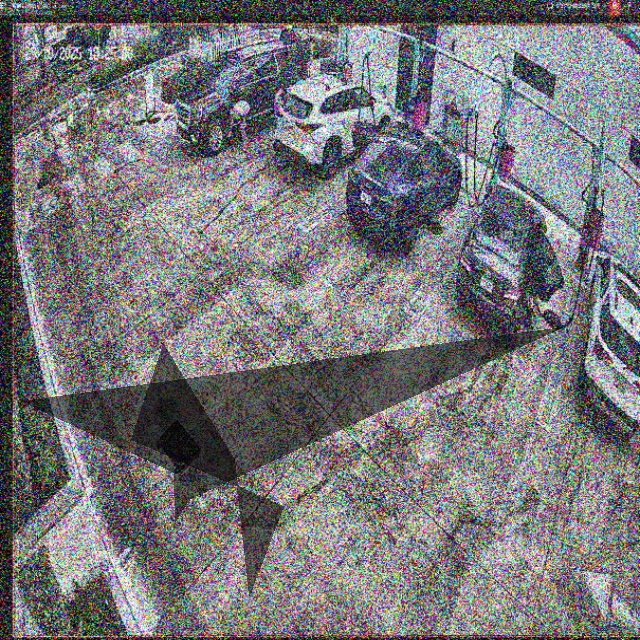Car: (457, 183, 565, 333), (347, 121, 462, 247), (275, 79, 393, 174)
